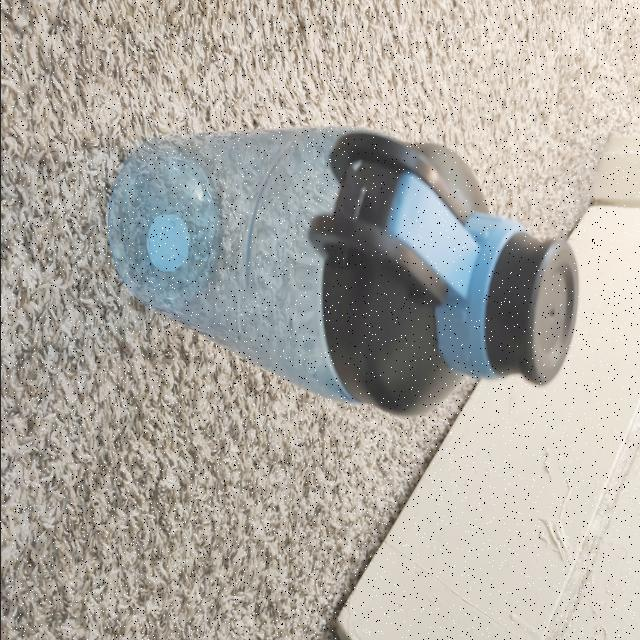bottle: (112, 93, 570, 415)
